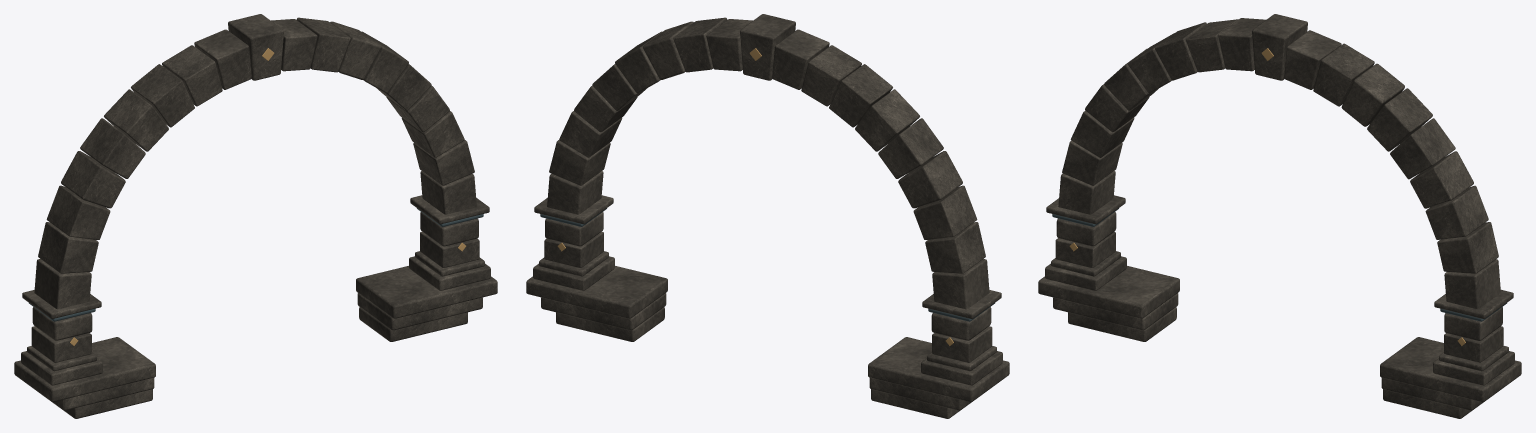
The model's file is gallery-arch.glb.
3 renders of one model, left to right at view 1: azimuth 30°, elevation 25°; view 2: azimuth 150°, elevation 25°; view 3: azimuth 330°, elevation 25°, orthographic.
Visible parts, largest first — view 1: gallery-arch — Weathered warm limestone; view 2: gallery-arch — Weathered warm limestone; view 3: gallery-arch — Weathered warm limestone.
Boxes of the visible parts, x1=… form: gallery-arch — Weathered warm limestone: x1=14, y1=14, x2=497, y2=418; gallery-arch — Weathered warm limestone: x1=526, y1=14, x2=1009, y2=418; gallery-arch — Weathered warm limestone: x1=1038, y1=14, x2=1521, y2=418.
Size of the model in its own units: 9.44 by 6.77 by 1.42.
3 materials, 1 textured.
